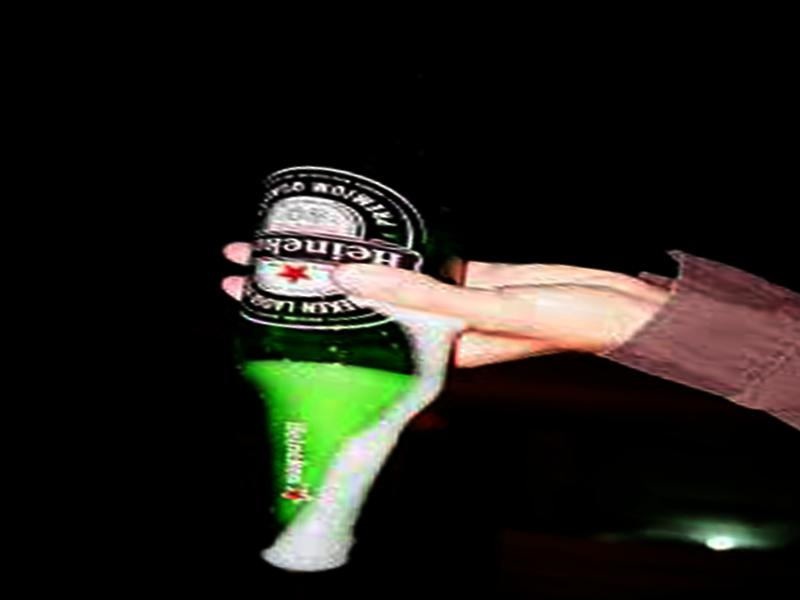Beer: (199, 146, 478, 569)
